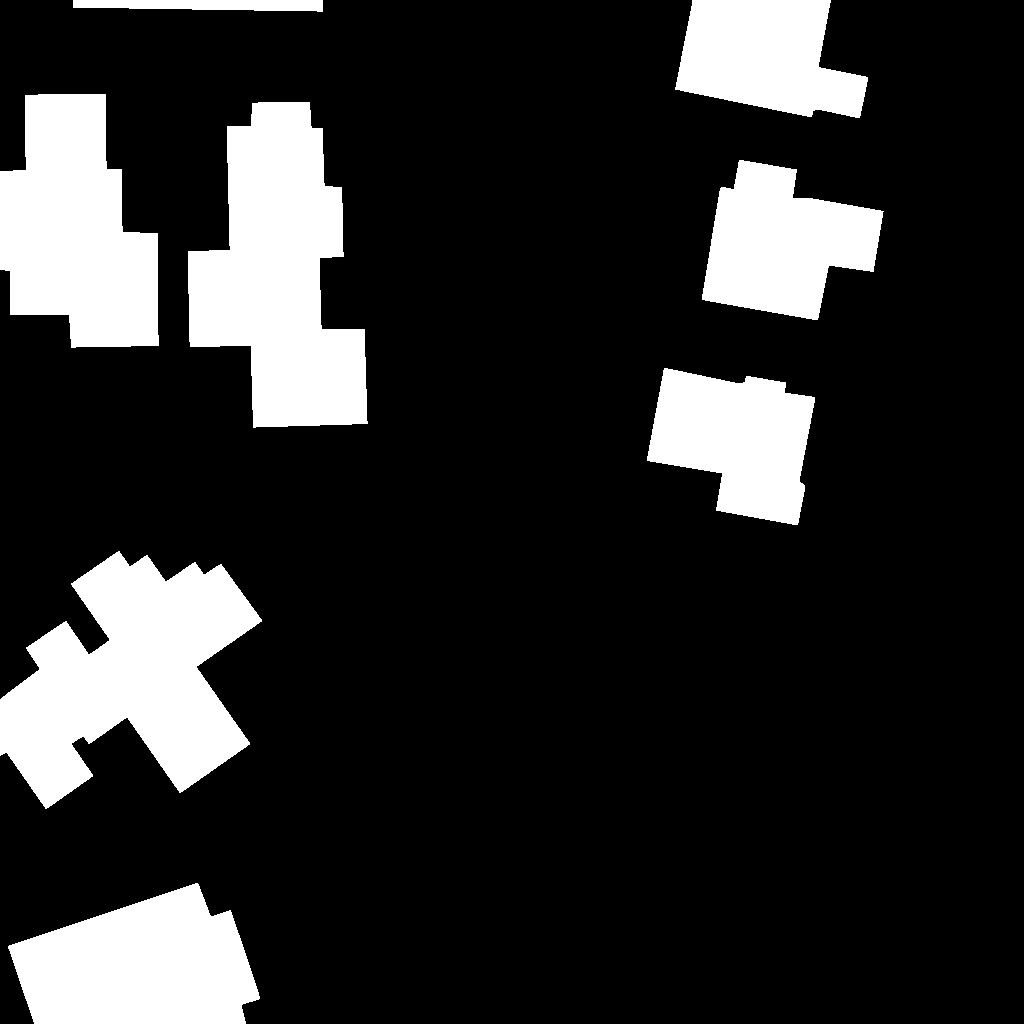building: (0, 551, 263, 810), (188, 102, 368, 428), (0, 94, 159, 348), (8, 883, 261, 1024), (702, 160, 884, 321), (647, 368, 816, 526), (675, 0, 869, 119), (73, 0, 324, 12)
